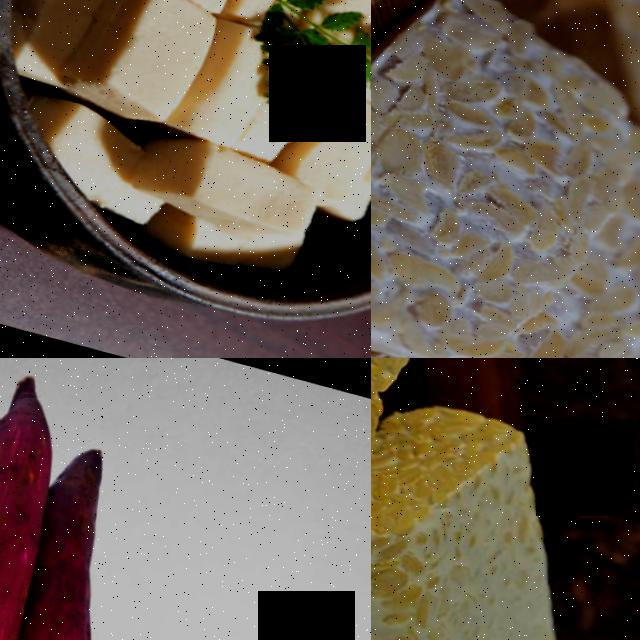sweet potato: (0, 420, 148, 640), (0, 358, 80, 640)
tempeh: (371, 0, 640, 358), (371, 448, 592, 640), (516, 167, 640, 358)
tofu: (136, 122, 318, 246), (68, 0, 221, 134), (34, 92, 151, 212), (294, 91, 371, 209), (3, 0, 92, 80)
